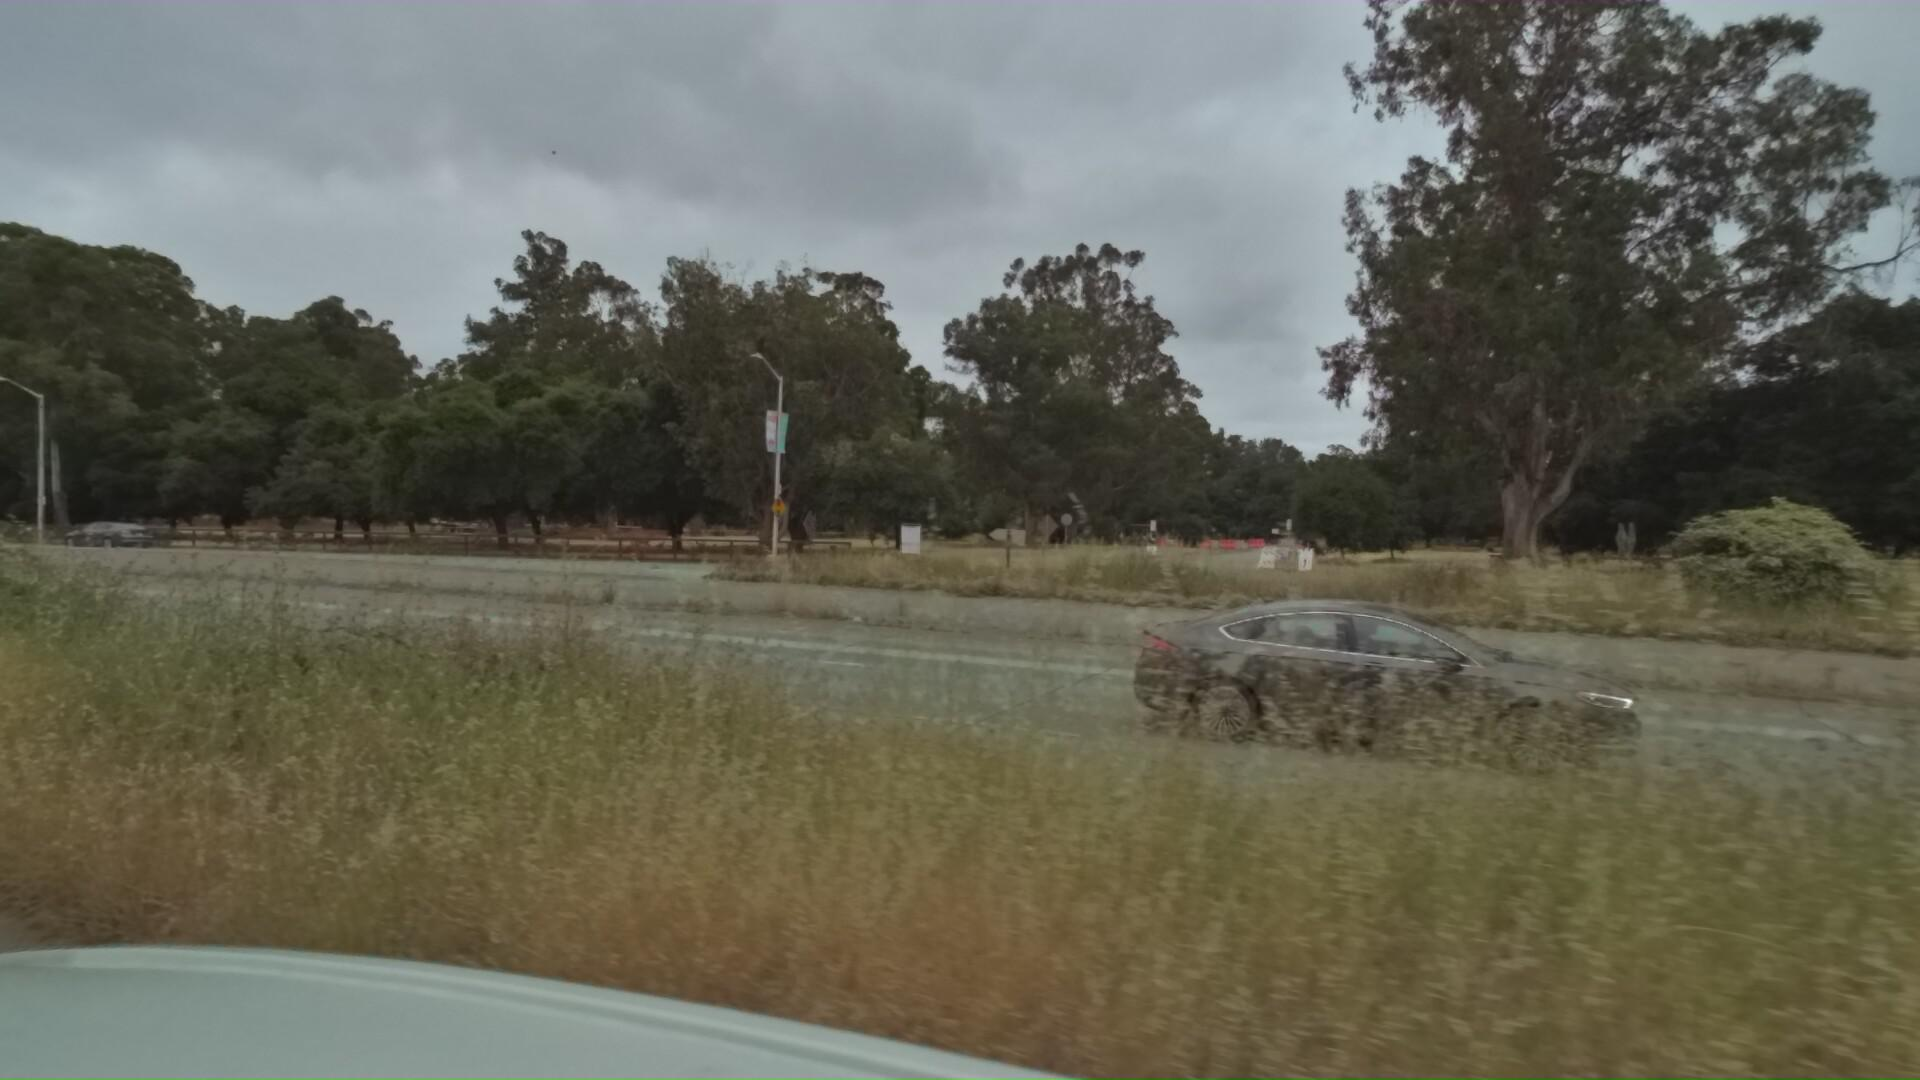car: (1153, 583, 1716, 803), (50, 521, 152, 554)
